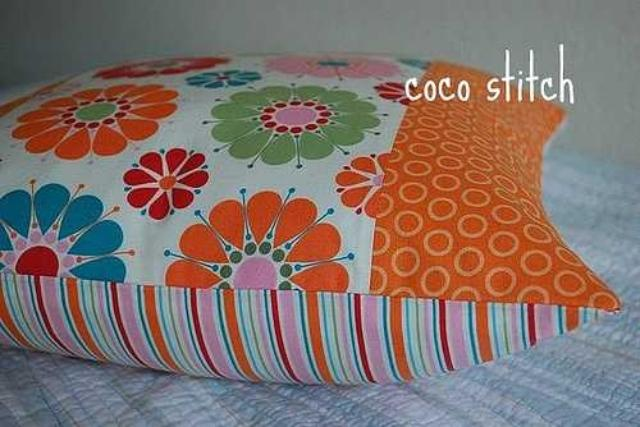pillow: (0, 52, 622, 386)
